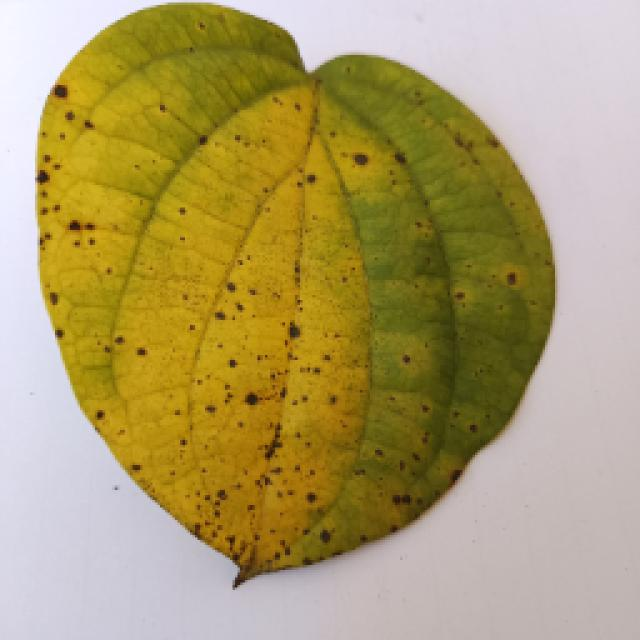slow-decline: (20, 25, 600, 603)
